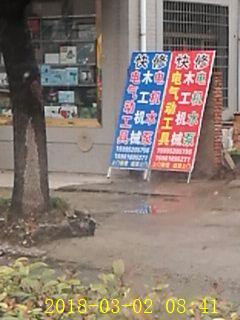multi_signs: (146, 49, 216, 184), (105, 50, 172, 180)
